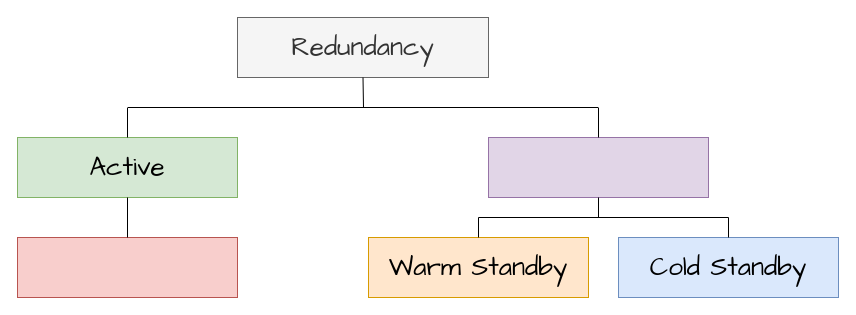
The diagram is 856 pixels wide and 315 high, and some of its shapes have lost their labels. The box of each missing label's shape, as (x1, y1, x2, y2) in pixels:
Hot Standby: (16, 236, 238, 298)
Passive: (488, 136, 708, 198)
